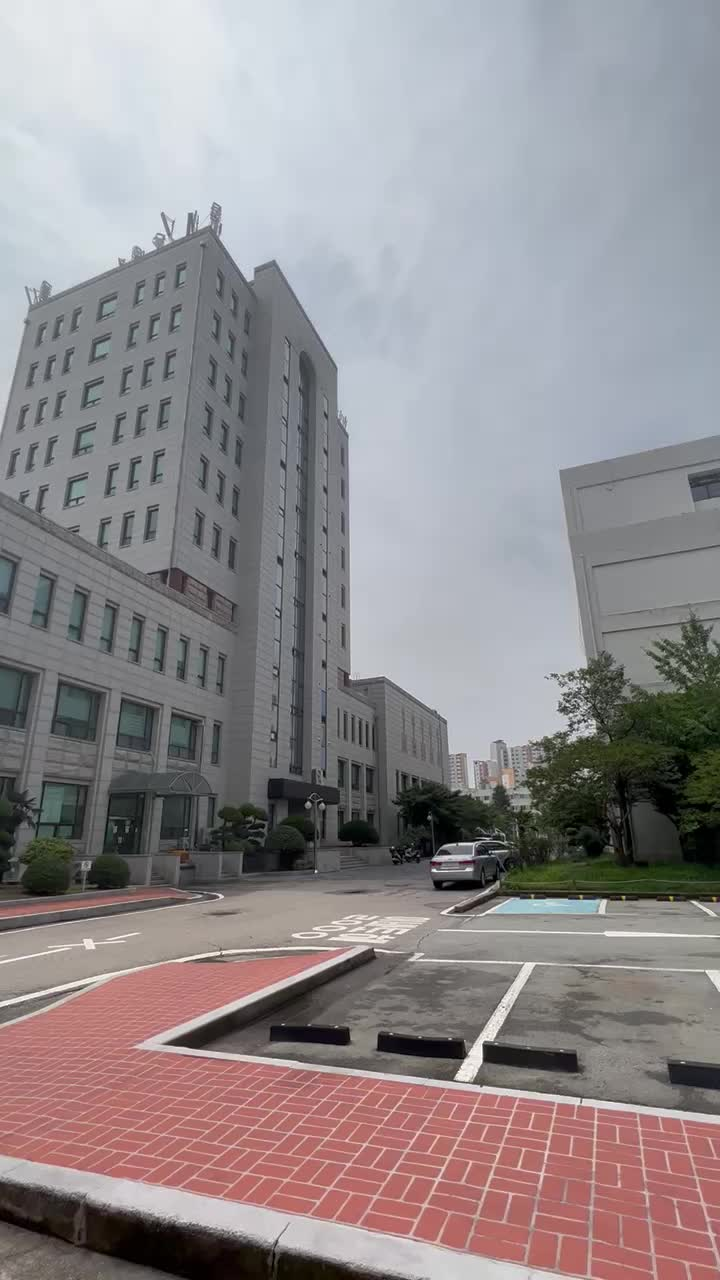low: (8, 234, 378, 764)
